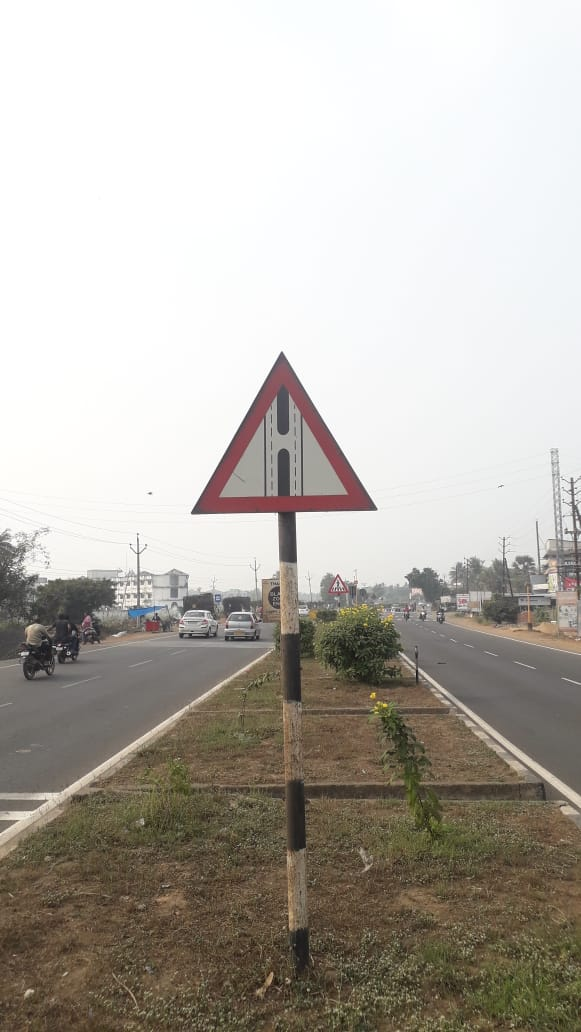highway go straight: (191, 339, 411, 566)
